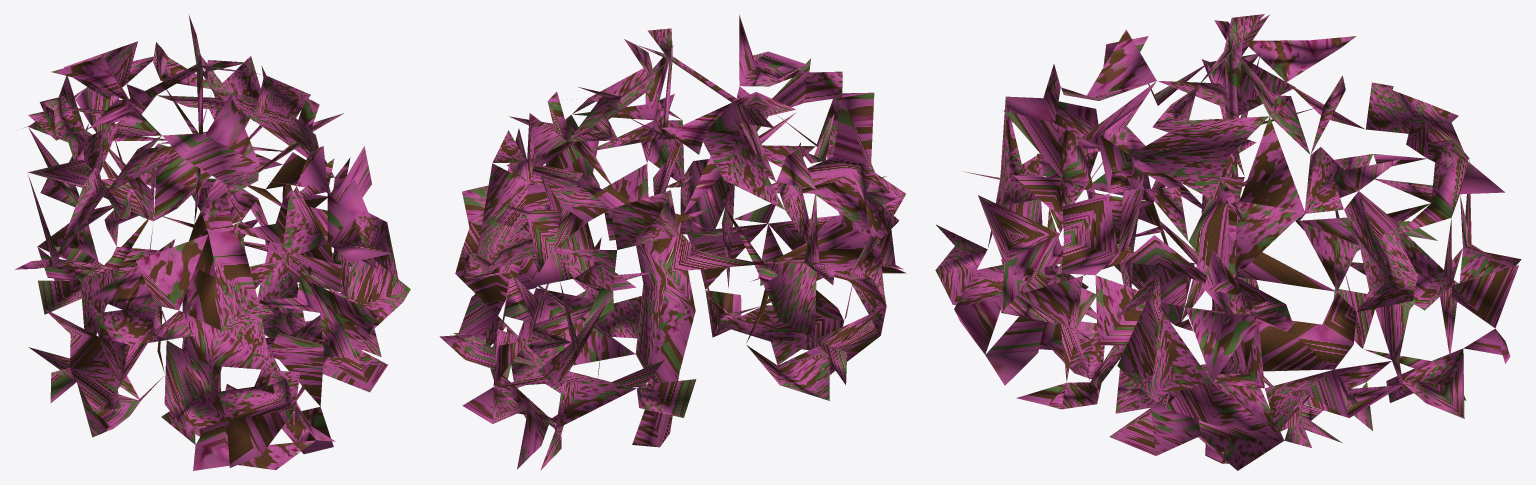
Rendered from bougainvillea-far.glb.
3 renders of one model, left to right at view 1: azimuth 30°, elevation 25°; view 2: azimuth 150°, elevation 25°; view 3: azimuth 270°, elevation 25°, orthographic. The views are drawn at different scales.
Parts seen in each view (by area): view 1: tripo_node_40c0e378-185d-42c8-b7ea-cbe3f90f396a; view 2: tripo_node_40c0e378-185d-42c8-b7ea-cbe3f90f396a; view 3: tripo_node_40c0e378-185d-42c8-b7ea-cbe3f90f396a.
Part boxes in pixels (x1=…): tripo_node_40c0e378-185d-42c8-b7ea-cbe3f90f396a: x1=15, y1=14, x2=410, y2=470; tripo_node_40c0e378-185d-42c8-b7ea-cbe3f90f396a: x1=439, y1=15, x2=906, y2=470; tripo_node_40c0e378-185d-42c8-b7ea-cbe3f90f396a: x1=935, y1=14, x2=1521, y2=470.
Bounding box in the file's own units: 0.694 × 0.7835 × 0.949.
1 material, 1 textured.
